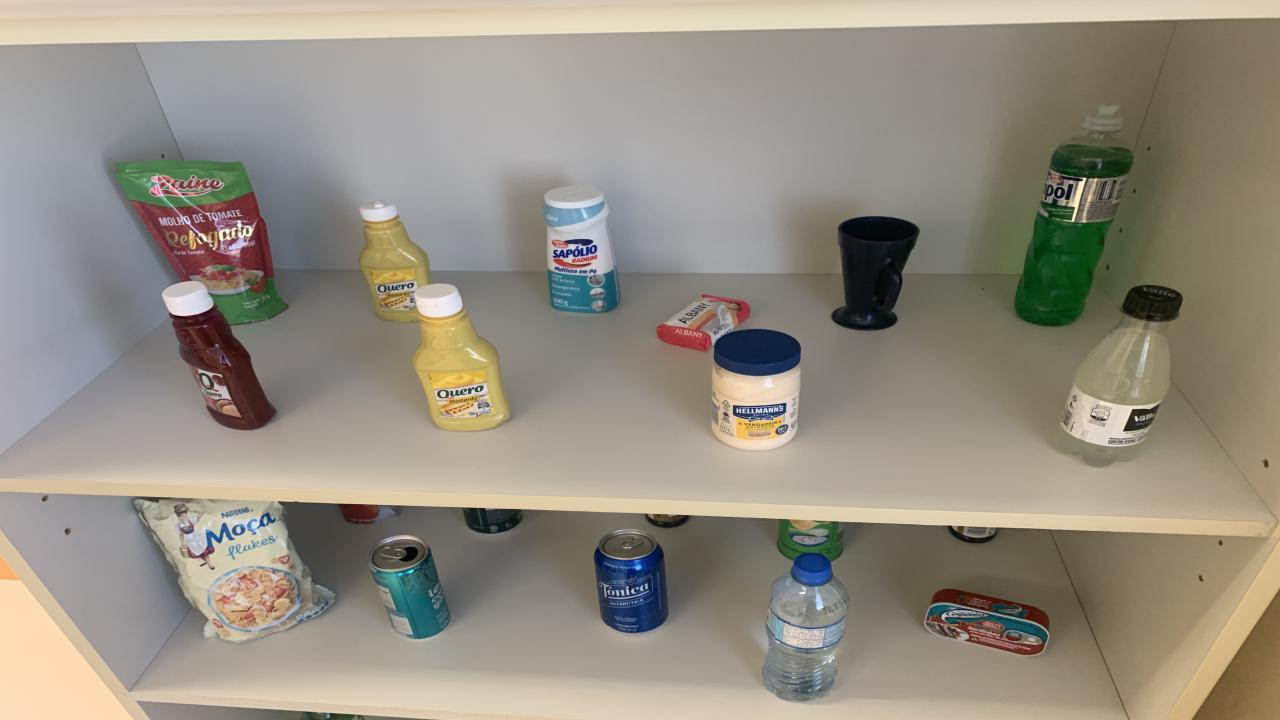Cleaner-Cleanup_Items: (542, 186, 620, 313)
Detergent-Cleanup_Items: (1015, 105, 1132, 326)
English_Sauce-Pantry_Items: (950, 525, 998, 544), (645, 514, 690, 529)
Flakes-Snacks: (132, 499, 335, 641)
Guarana_Can-Drinks: (462, 508, 522, 534)
Ketchup-Pantry_Items: (162, 281, 275, 429)
Mayonnaise-Pantry_Items: (712, 330, 800, 450)
Mustard-Pantry_Items: (412, 283, 510, 431), (360, 201, 432, 322)
Pringles-Snacks: (778, 519, 845, 561)
Soap-Cleanup_Items: (658, 294, 750, 351)
Soda-Drinks: (1055, 285, 1182, 467)
Tea-Drinks: (370, 534, 450, 639)
Tomato_Sauce-Pantry_Items: (115, 159, 288, 324), (340, 504, 398, 525)
Tonic-Drinks: (595, 529, 668, 632)
Tuna_Can-Pantry_Items: (925, 589, 1050, 654)
Water_Bottle-Drinks: (762, 553, 850, 701)
